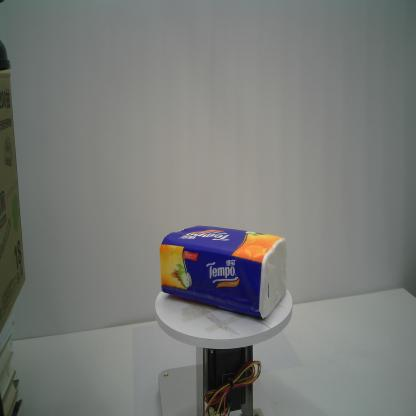Tissue: (159, 226, 287, 320)
